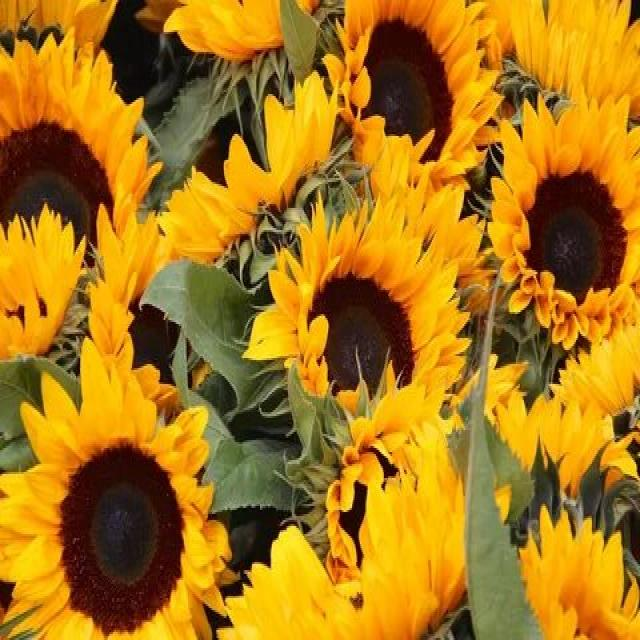sunflower: (1, 344, 239, 640), (260, 200, 483, 474), (2, 30, 158, 350), (492, 96, 640, 376), (321, 2, 508, 190)
